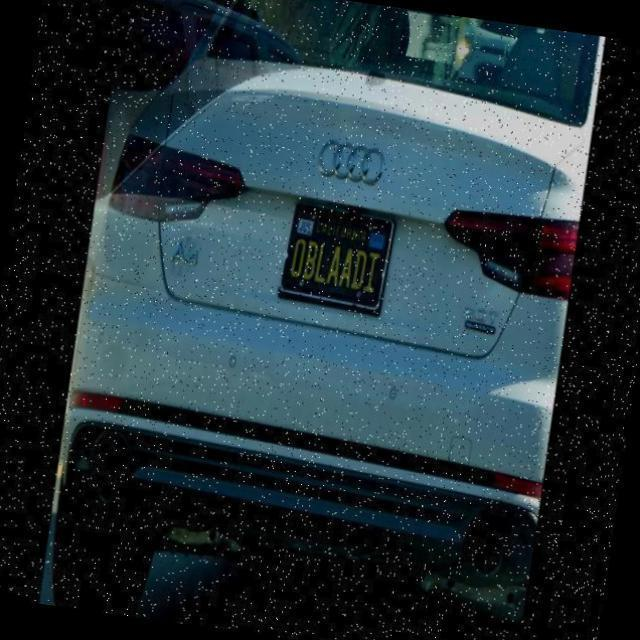License Plate: (273, 188, 402, 324)
